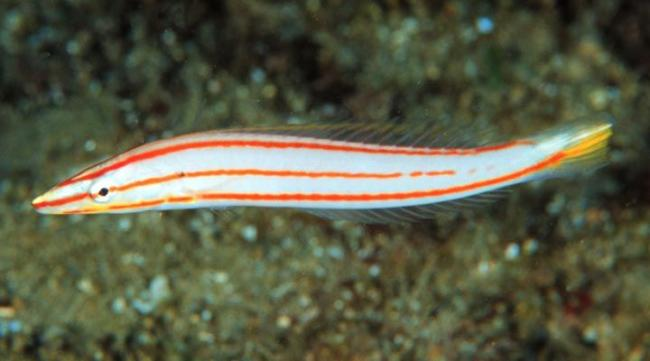fish: (30, 111, 617, 224)
